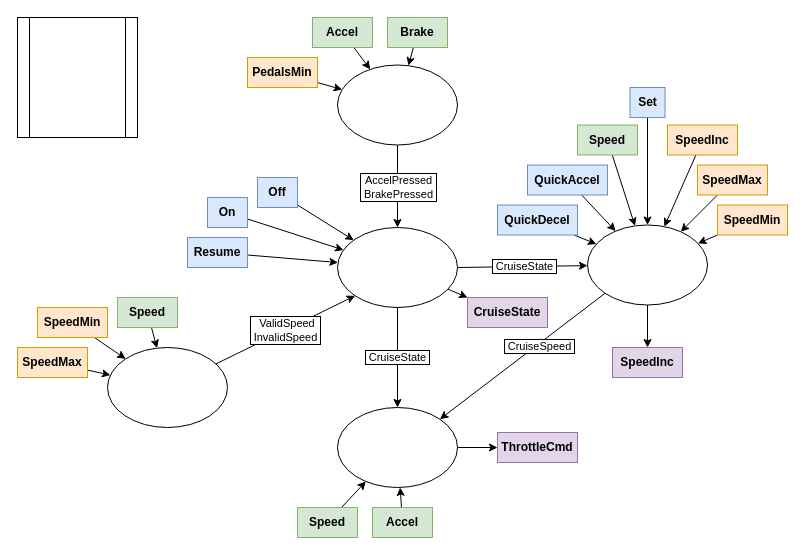
Some shapes in this 805 by 555 pixel diagram are drawn without their labels. Here are the shapes that lost their labels. From the top down, the centre of each, then its label:
the point at 77,77: KEY Constant Float Input Pure Input Output
the point at 397,104: Pedal Detection
the point at 397,267: Cruise Control FSM
the point at 647,264: Cruise Speed Managment
the point at 167,387: Speed Detection
the point at 397,447: Car Speed managment
